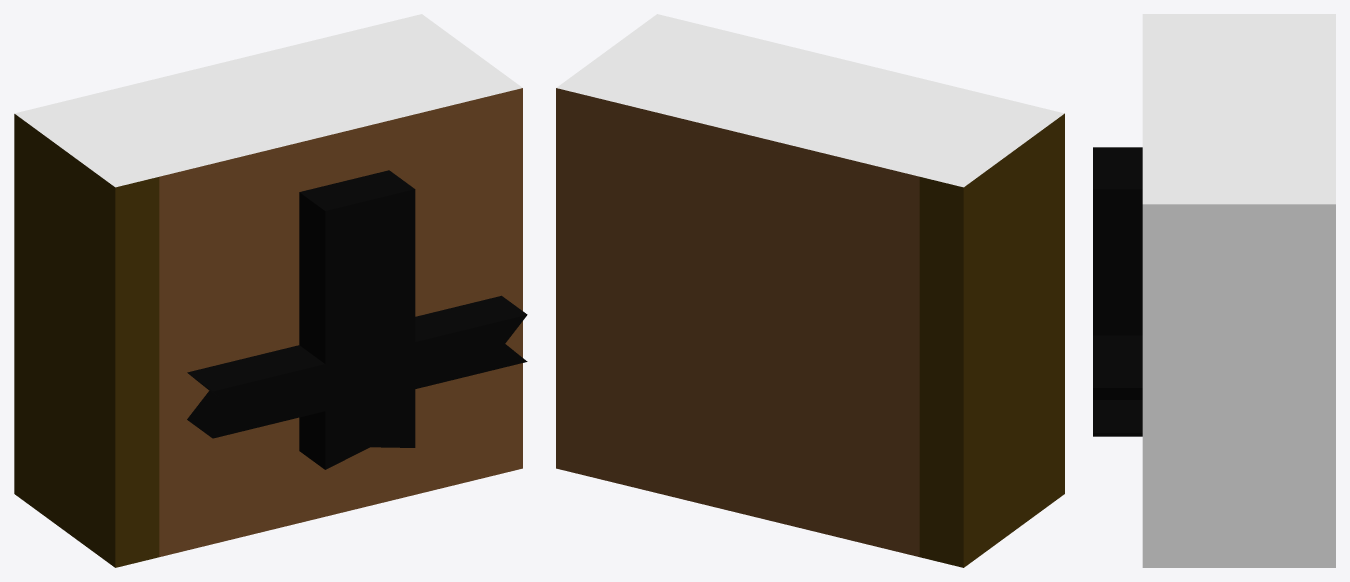
File: UnholyBook.fbx
The picture shows the model from 3 angles, left to right: view 1: azimuth 30°, elevation 25°; view 2: azimuth 150°, elevation 25°; view 3: azimuth 270°, elevation 25°; orthographic projection. The views are drawn at different scales.
Visible parts, largest first — view 1: Book, Cross; view 2: Book; view 3: Book, Cross.
Boxes of the visible parts, left/top/right/bottom form: Book: left=14, top=14, right=522, bottom=567; Cross: left=187, top=170, right=527, bottom=469; Book: left=556, top=14, right=1064, bottom=567; Book: left=1142, top=14, right=1335, bottom=567; Cross: left=1093, top=147, right=1142, bottom=436.
Size of the model in its own units: 44.84 by 40 by 24.21.
